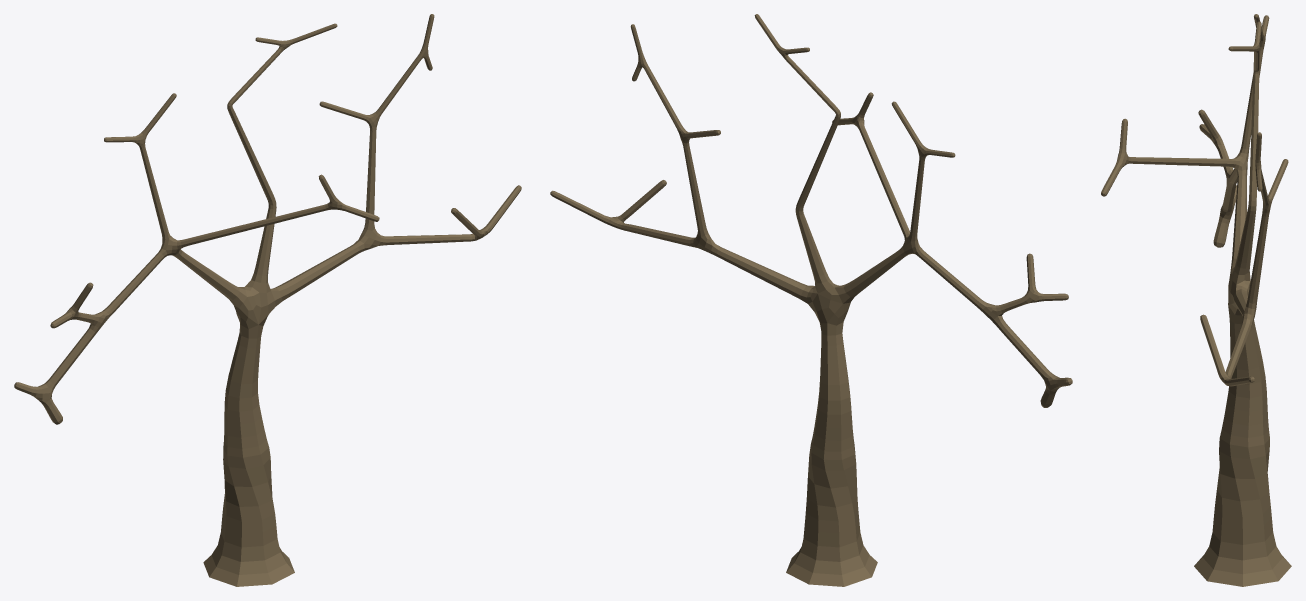
Rendered from tree3.fbx.
3 renders of one model, left to right at view 1: azimuth 30°, elevation 25°; view 2: azimuth 150°, elevation 25°; view 3: azimuth 270°, elevation 25°, orthographic. The views are drawn at different scales.
Visible parts, largest first — view 1: Vert; view 2: Vert; view 3: Vert.
Part boxes in pixels (x1,y1,x2,y2): Vert: [14, 14, 521, 586]; Vert: [550, 14, 1072, 586]; Vert: [1101, 14, 1291, 586].
Size of the model in its own units: 286 by 281 by 86.51.
